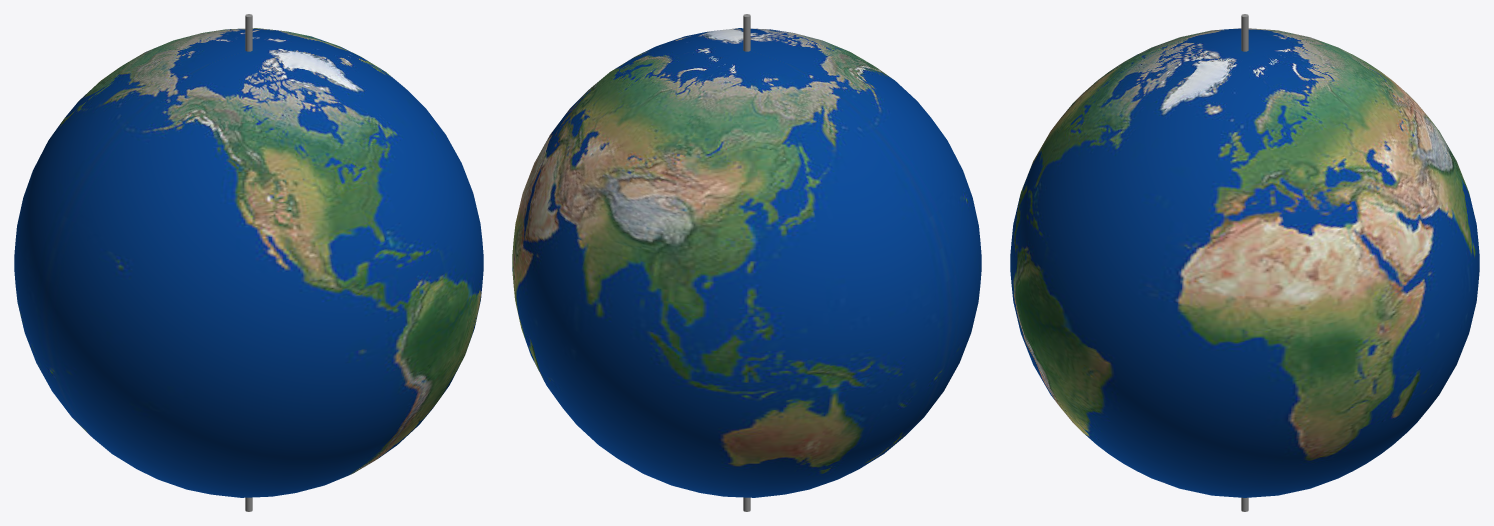
File: earth.FBX
3 renders of one model, left to right at view 1: azimuth 30°, elevation 25°; view 2: azimuth 150°, elevation 25°; view 3: azimuth 270°, elevation 25°, orthographic.
Visible parts, largest first — view 1: GeoSphere002; view 2: GeoSphere002; view 3: GeoSphere002.
Boxes of the visible parts, left/top/right/bottom form: GeoSphere002: left=14, top=14, right=483, bottom=511; GeoSphere002: left=512, top=14, right=981, bottom=511; GeoSphere002: left=1010, top=14, right=1479, bottom=511.
Bounding box in the file's own units: 79.88 × 92.91 × 79.85.
Materials: 2 (1 with a texture image).
